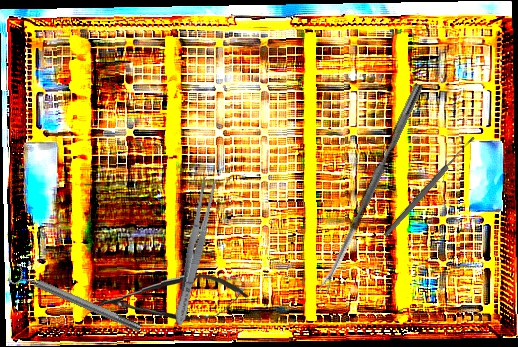Dressing Forceps: (169, 175, 220, 328)
Fixation Ring: (6, 261, 145, 340)
Micro Scissor: (92, 271, 250, 327)
Surgical Spoon: (317, 82, 424, 294), (382, 134, 477, 239)
